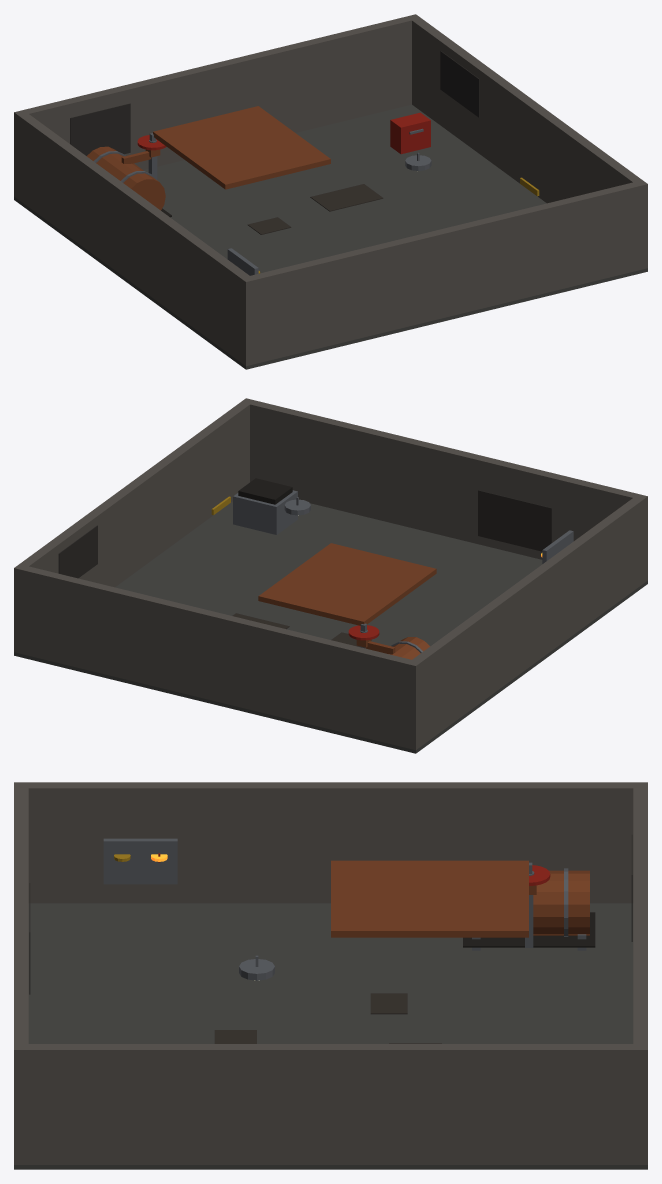
The model's file is room_boiler.glb.
3 views of the same model, one above another, from view 1: azimuth 30°, elevation 25°; view 2: azimuth 150°, elevation 25°; view 3: azimuth 270°, elevation 25° (orthographic). The views are drawn at different scales.
Parts seen in each view (by area): view 1: Floor, Wall_S_A, Wall_S_B, Wall_N_B, NoCol_BoilerHeader, Wall_W_A, Wall_W_B, Wall_E_B, Plug_S, Wall_N_A, Wall_E_A, Plug_W (+11 smaller); view 2: Floor, Wall_N_A, Wall_N_B, Wall_S_B, NoCol_BoilerHeader, Wall_W_A, Wall_W_B, Wall_E_A, Wall_S_A, Plug_N, Plug_S, Plug_E (+11 smaller); view 3: Floor, Wall_E_A, Wall_E_B, Wall_W_A, Wall_W_B, NoCol_BoilerHeader, Plug_E, Plug_W, GaugeBoard, Wall_N_B, Wall_S_B, BoilerTank (+10 smaller).
Boxes of the visible parts, x1=… form: Floor: x1=14, y1=104, x2=647, y2=369; Wall_S_A: x1=240, y1=240, x2=403, y2=366; Wall_S_B: x1=485, y1=180, x2=647, y2=306; Wall_N_B: x1=259, y1=14, x2=420, y2=132; NoCol_BoilerHeader: x1=153, y1=106, x2=330, y2=189; Wall_W_A: x1=155, y1=213, x2=249, y2=361; Wall_W_B: x1=19, y1=114, x2=113, y2=262; Wall_E_B: x1=412, y1=18, x2=506, y2=166; Plug_S: x1=403, y1=233, x2=490, y2=327; Wall_N_A: x1=14, y1=74, x2=176, y2=199; Wall_E_A: x1=547, y1=117, x2=641, y2=202; Plug_W: x1=105, y1=189, x2=155, y2=299; Floor: x1=14, y1=501, x2=647, y2=753; Wall_N_A: x1=258, y1=624, x2=421, y2=750; Wall_N_B: x1=14, y1=564, x2=176, y2=690; Wall_S_B: x1=241, y1=398, x2=402, y2=524; NoCol_BoilerHeader: x1=258, y1=543, x2=436, y2=625; Wall_W_A: x1=548, y1=498, x2=642, y2=646; Wall_W_B: x1=412, y1=597, x2=506, y2=745; Wall_E_A: x1=155, y1=402, x2=249, y2=550; Wall_S_A: x1=485, y1=458, x2=647, y2=583; Plug_N: x1=171, y1=617, x2=258, y2=711; Plug_S: x1=398, y1=451, x2=484, y2=545; Plug_E: x1=114, y1=477, x2=164, y2=587; Floor: x1=14, y1=903, x2=647, y2=1169; Wall_E_A: x1=28, y1=1044, x2=262, y2=1164; Wall_E_B: x1=399, y1=1044, x2=633, y2=1164; Wall_W_A: x1=28, y1=782, x2=262, y2=903; Wall_W_B: x1=399, y1=782, x2=633, y2=903; NoCol_BoilerHeader: x1=331, y1=860, x2=528, y2=937; Plug_E: x1=262, y1=1064, x2=399, y2=1164; Plug_W: x1=262, y1=802, x2=399, y2=903; GaugeBoard: x1=103, y1=838, x2=177, y2=884; Wall_N_B: x1=633, y1=945, x2=647, y2=1164; Wall_S_B: x1=14, y1=945, x2=28, y2=1164; BoilerTank: x1=533, y1=870, x2=589, y2=935.
Size of the model in its own units: 12 by 2.5 by 12.
